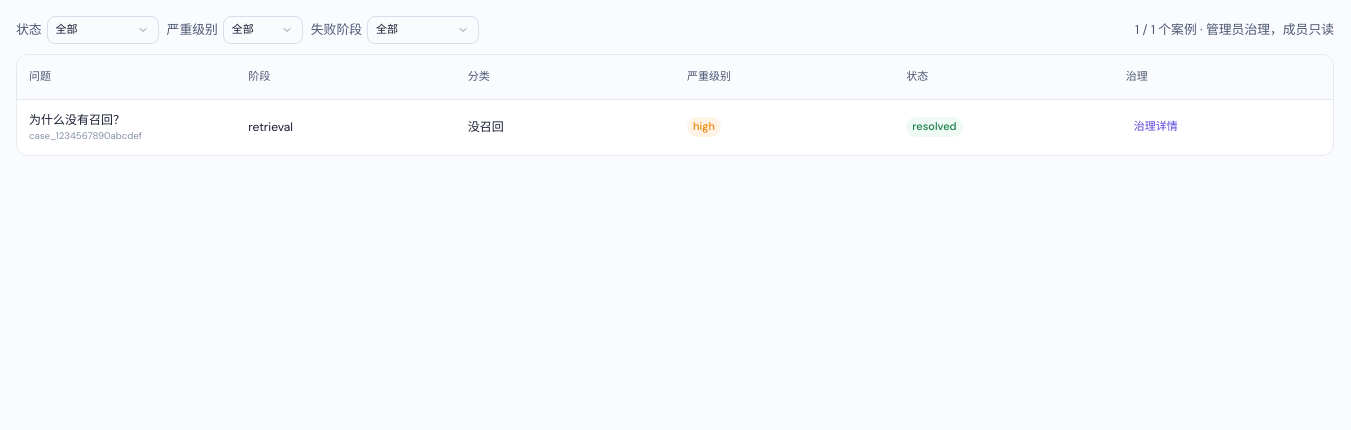
Test case: 已解决案例只能通过真实回归运行进入回归集
Click the button "治理详情" at (1156, 127), box [1126,113,1186,141]
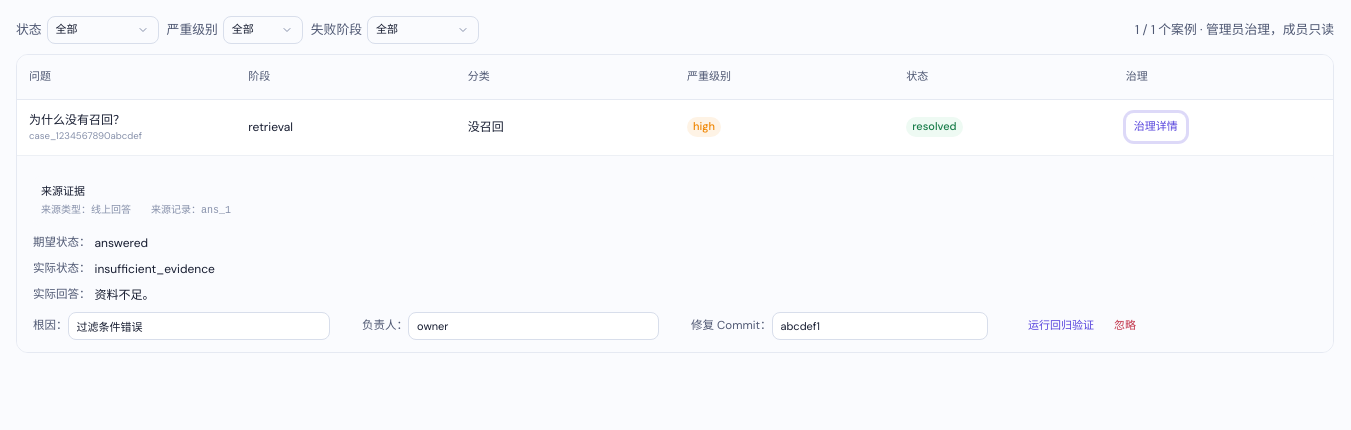
Click the button "运行回归验证" at (1061, 326), box [1020,312,1102,340]
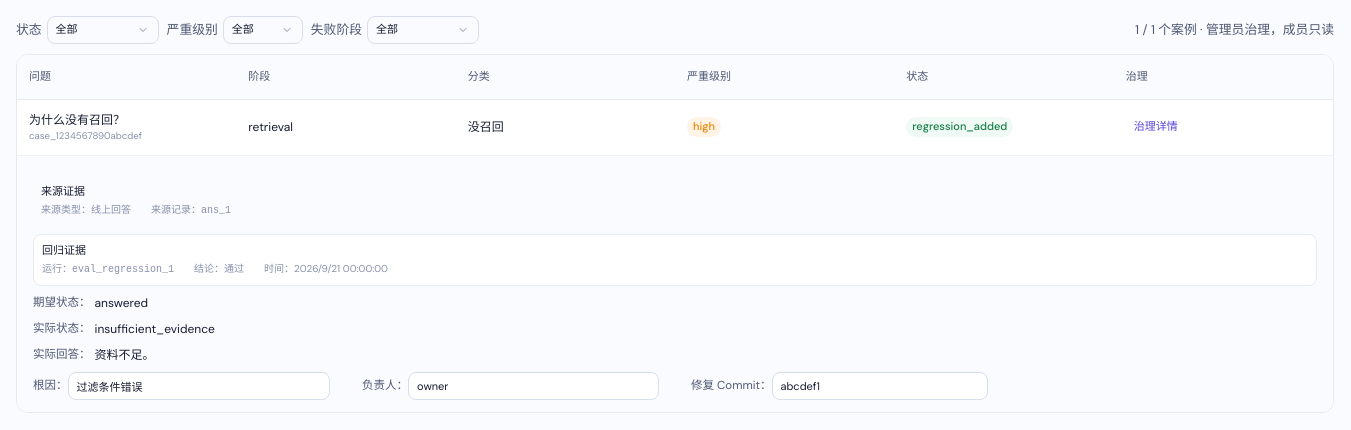
Check: the text "eval_regression_1" is shown, box [72,264,174,275]
Check: the text "结论：通过" is shown, box [194,262,244,276]
